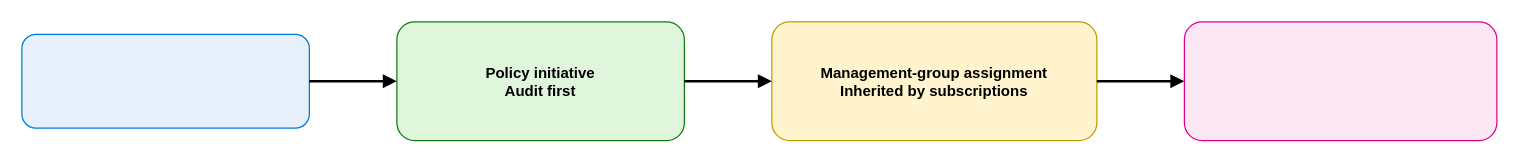
Some shapes in this 1519 by 163 pixel diagram are drawn without their labels. Here are the shapes that lost their labels. From the top down, the centre of each, then its label:
the point at 165,80: Governance requirement
the point at 1340,81: Compliance results Remediation or exemption
